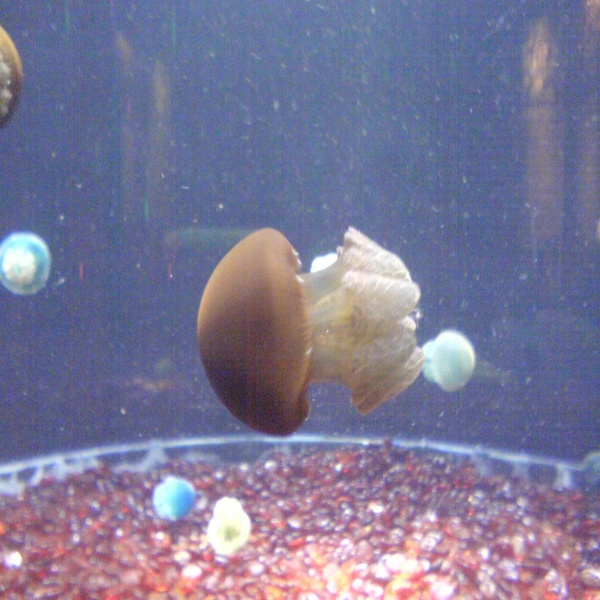Jellyfish: (195, 225, 427, 437)
